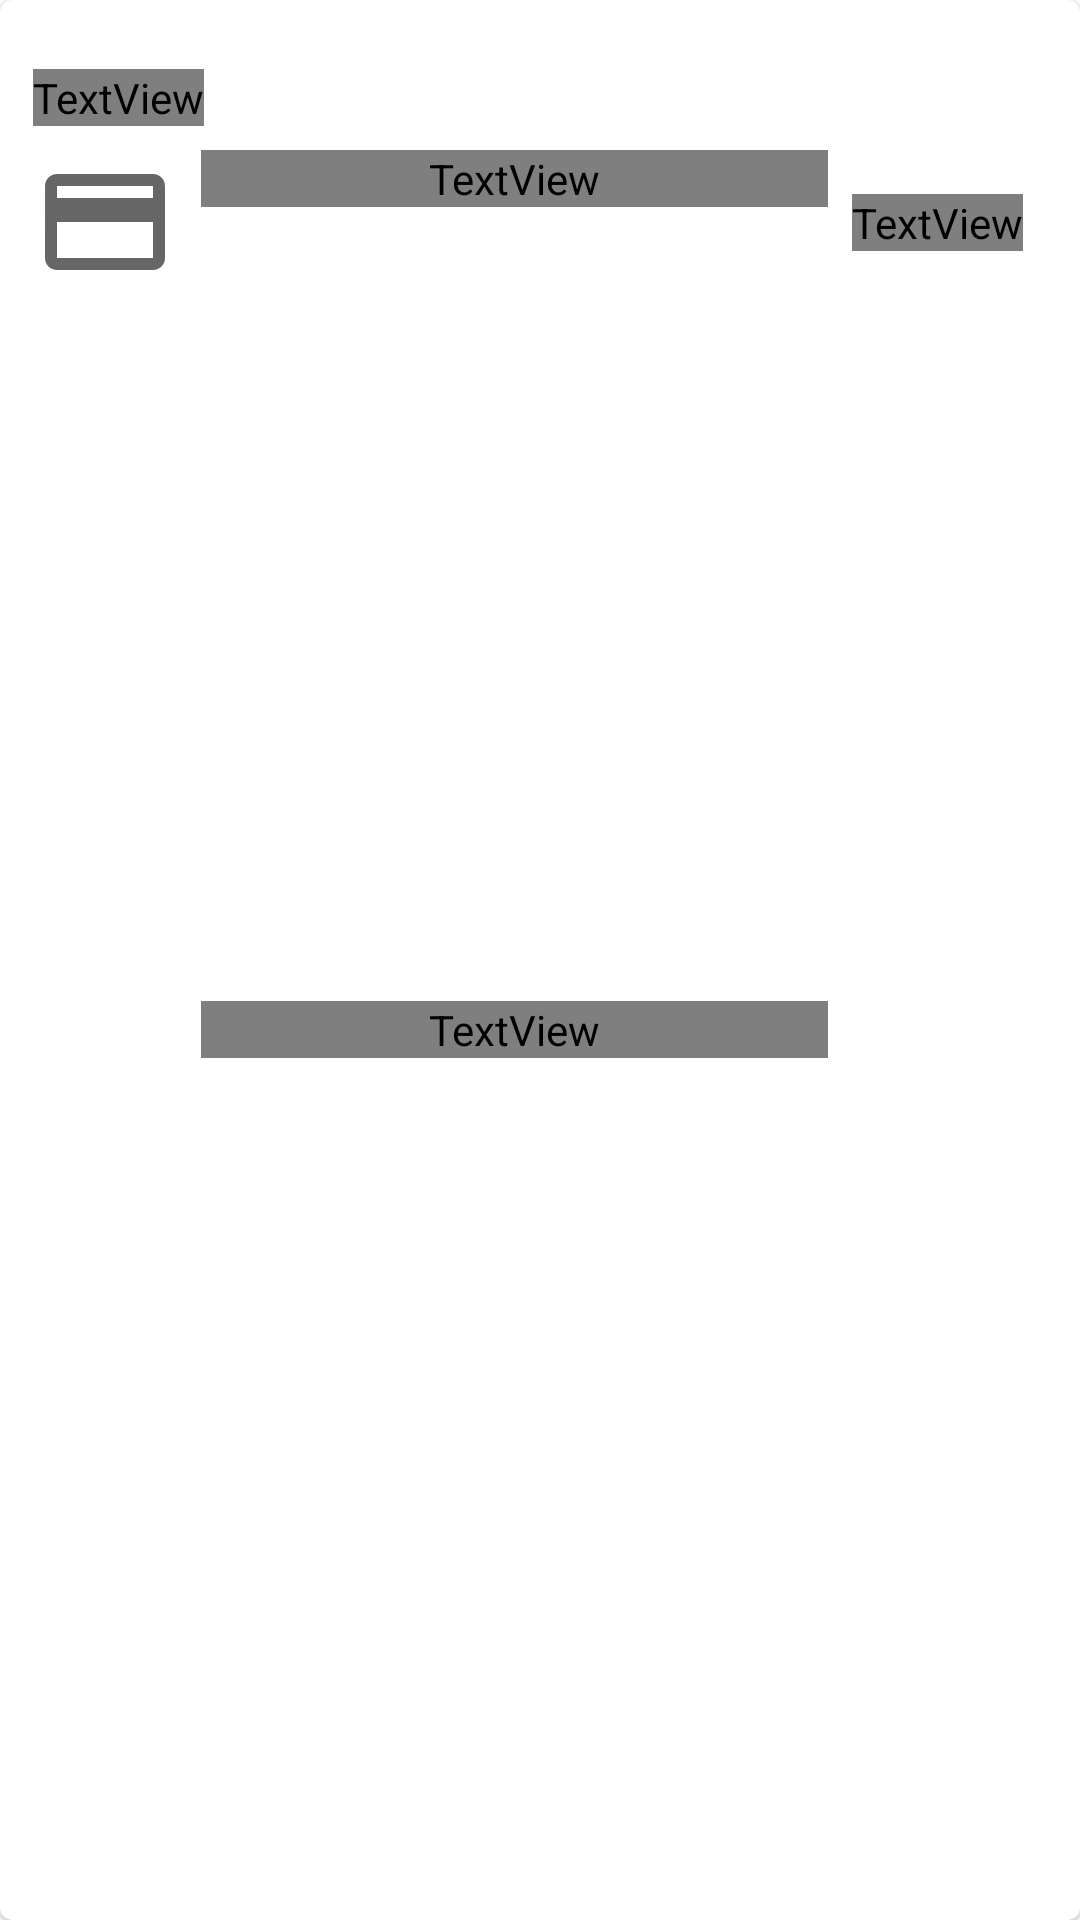

Where icons sit on this 1080w x 1920h app screen, as (x1, y1, x2, y2):
Card icon: (45, 174, 165, 270)
